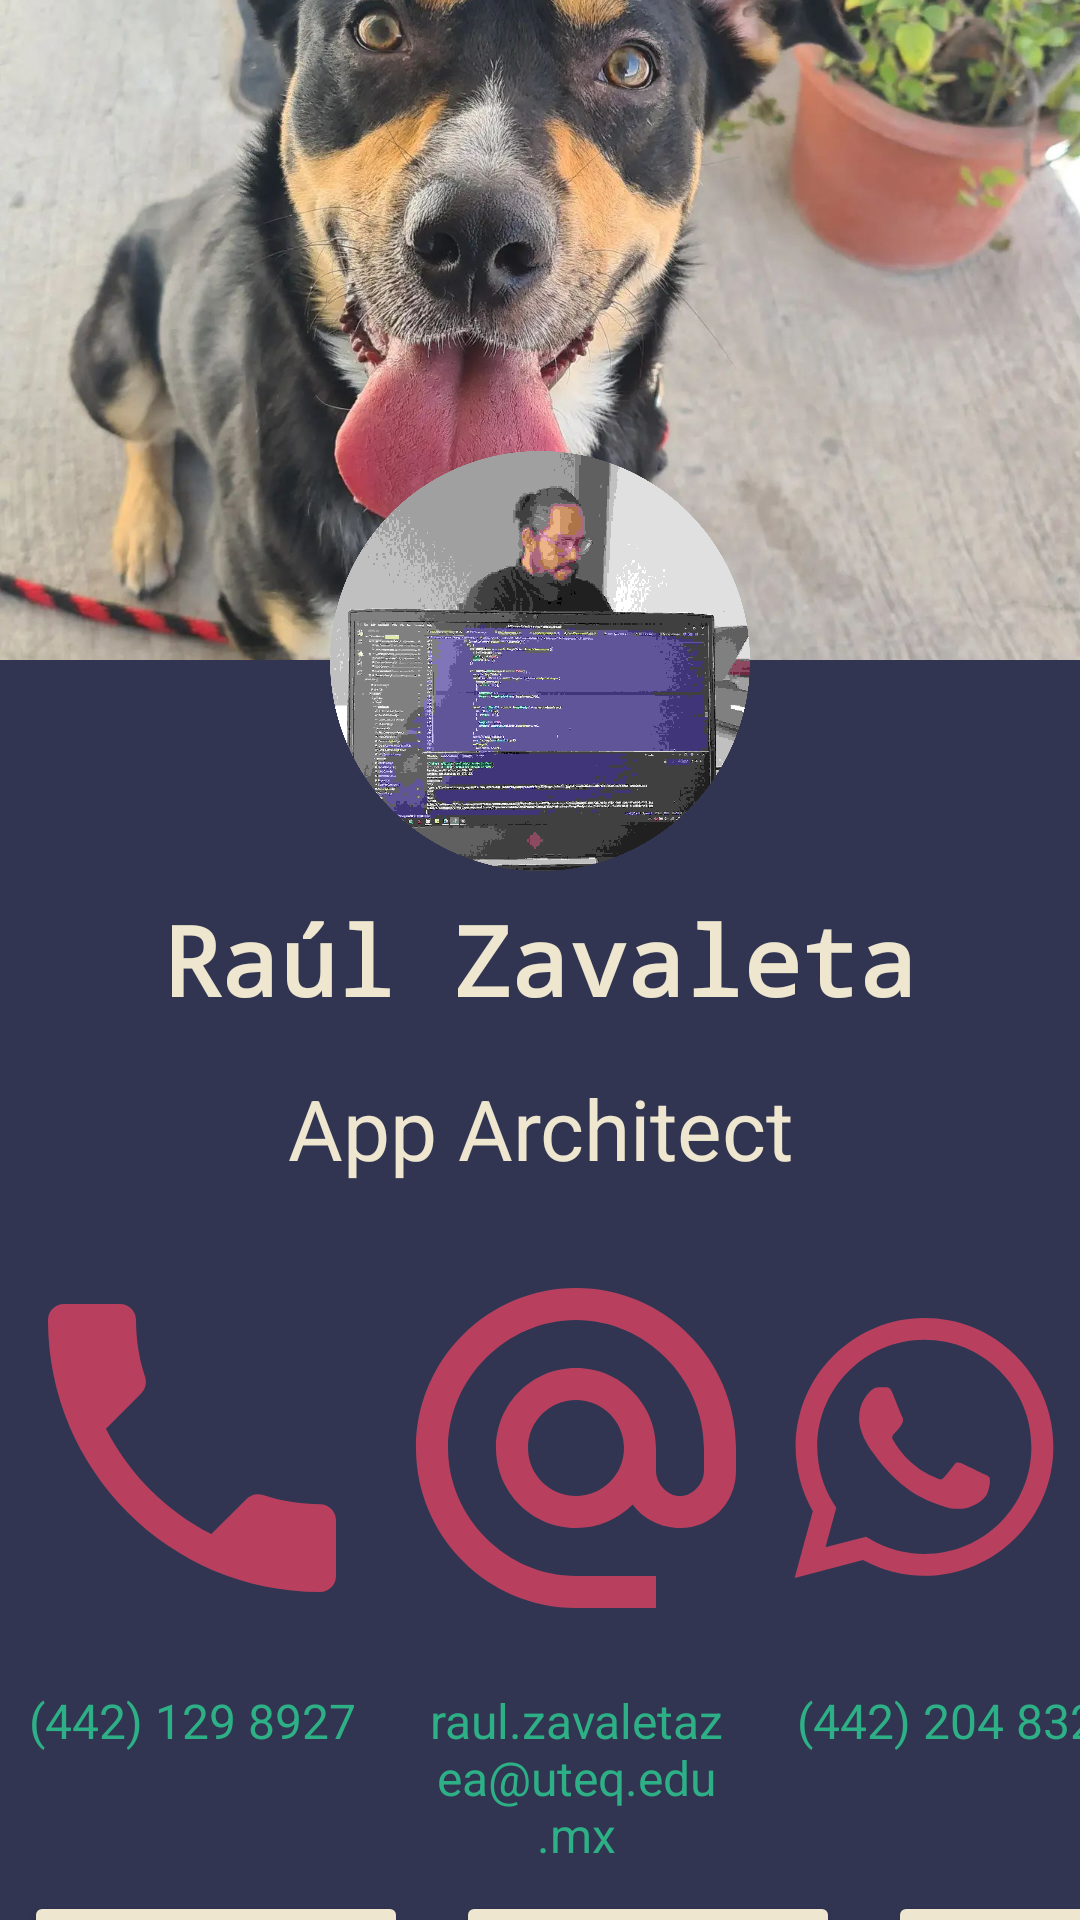

Icons on this 1080*1920 Android screen, each with its box as (x1, y1, x2, y2):
email: (416, 1288, 736, 1608)
phone: (48, 1304, 336, 1592)
